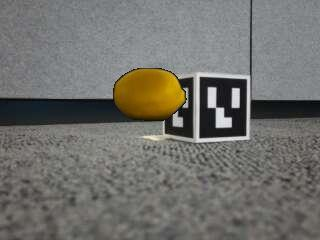lemon: (114, 69, 186, 120)
